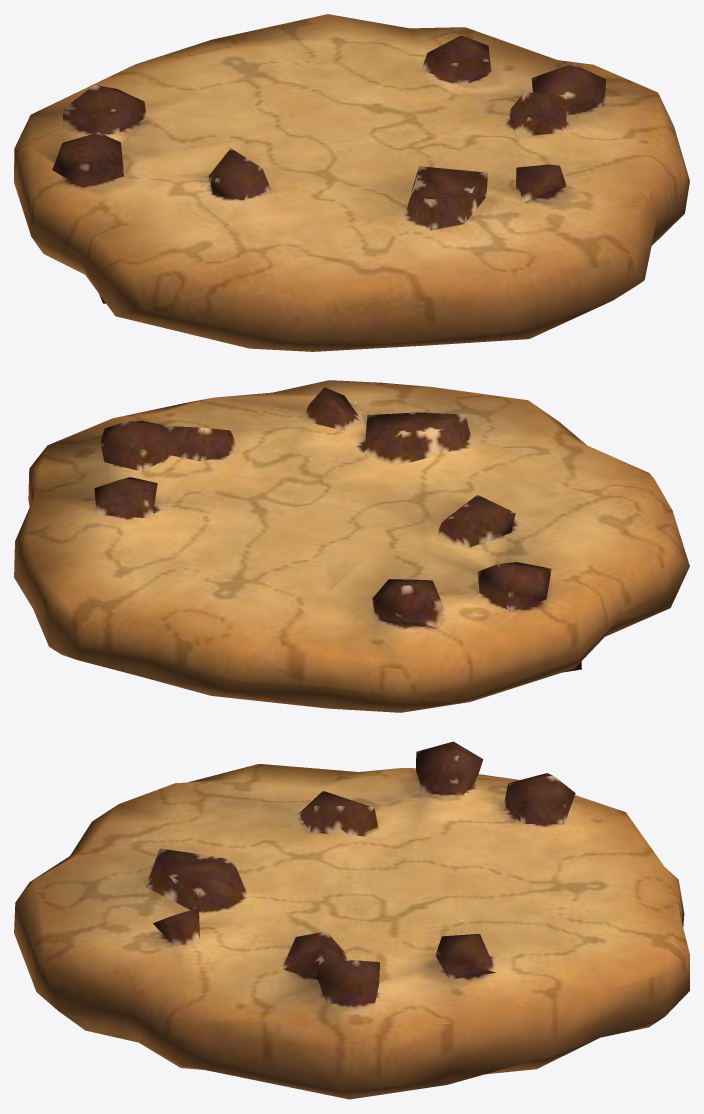
The model's file is cookie_projectile.glb.
The picture shows the model from 3 angles, top to bottom: view 1: azimuth 30°, elevation 25°; view 2: azimuth 150°, elevation 25°; view 3: azimuth 270°, elevation 25°; orthographic projection.
Parts seen in each view (by area): view 1: CookieMesh; view 2: CookieMesh; view 3: CookieMesh.
Part boxes in pixels (box(x1,y1,x2,y2)): CookieMesh: box(14, 14, 689, 351); CookieMesh: box(14, 380, 689, 712); CookieMesh: box(14, 741, 689, 1099).
Size of the model in its own units: 0.2831 by 0.0667 by 0.2837.
1 material, 1 textured.
